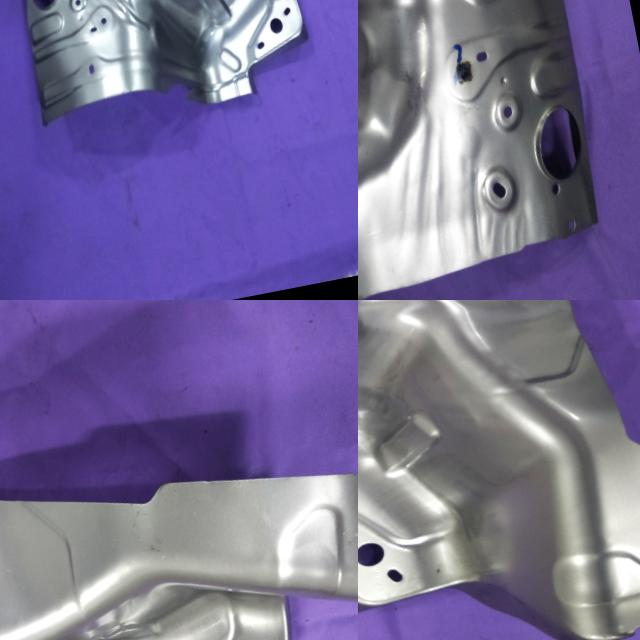Defect: (157, 71, 210, 107)
Healthy: (0, 389, 358, 640), (358, 0, 626, 300)
